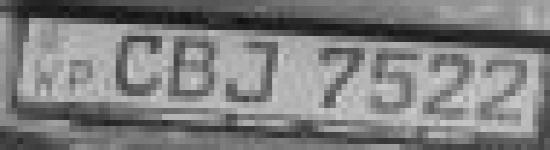2: (422, 50, 477, 129), (476, 57, 533, 128)
5: (368, 46, 424, 116)
7: (311, 42, 368, 114)
B: (166, 35, 224, 103)
C: (114, 29, 168, 100)
J: (222, 36, 288, 110)
P: (68, 55, 98, 100)
W: (31, 55, 66, 100)
